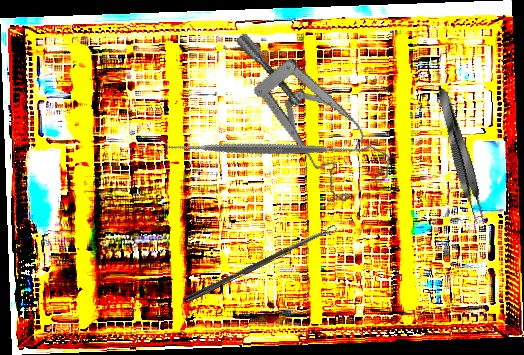Spatula Surgical: (159, 43, 370, 254)
Speculum: (233, 2, 399, 219)
Surgical Spoon: (183, 224, 338, 305)
Tissue Forceps: (432, 85, 490, 226)
